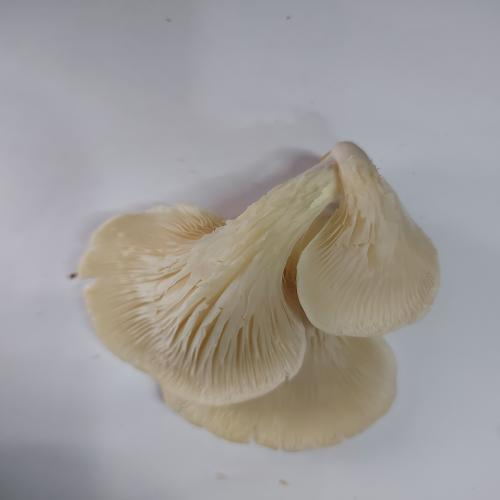Oyster Mushroom: (75, 140, 441, 452)
